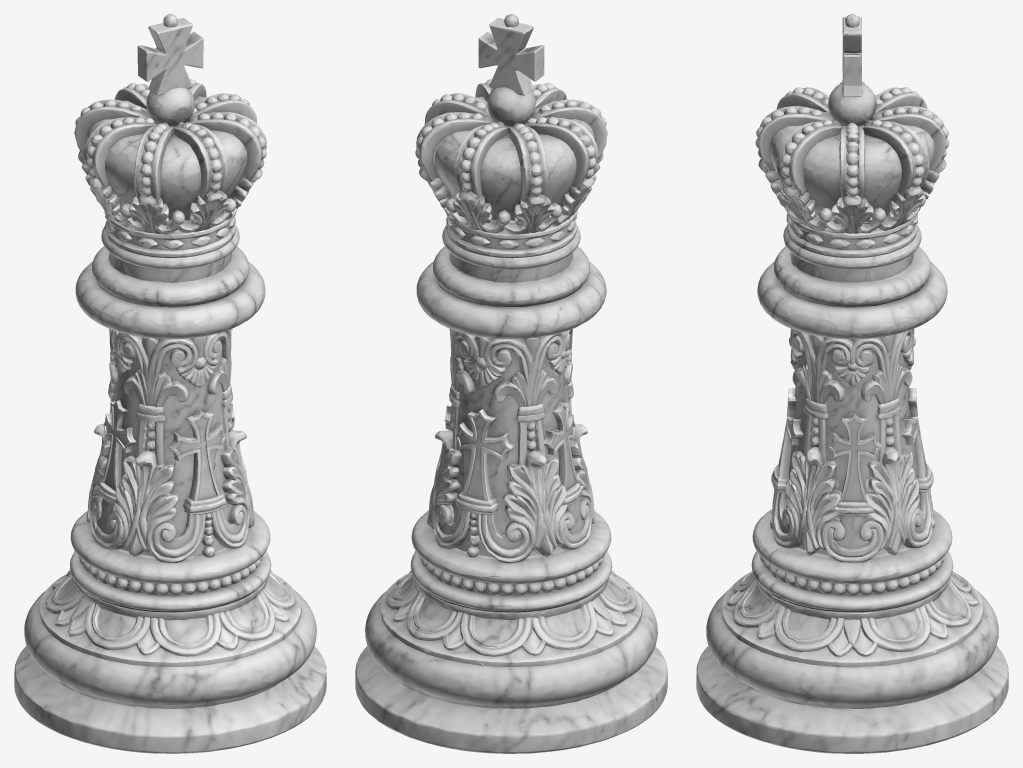
The model's file is king.glb.
The picture shows the model from 3 angles, left to right: view 1: azimuth 30°, elevation 25°; view 2: azimuth 150°, elevation 25°; view 3: azimuth 270°, elevation 25°; orthographic projection.
Parts seen in each view (by area): view 1: Mesh_0; view 2: Mesh_0; view 3: Mesh_0.
Part boxes in pixels (x1,y1,x2,y2): Mesh_0: (14,14,326,753); Mesh_0: (355,14,667,753); Mesh_0: (696,14,1008,753).
Bounding box in the file's own units: 0.7969 × 1.9 × 0.7964.
Materials: 1 (1 with a texture image).
